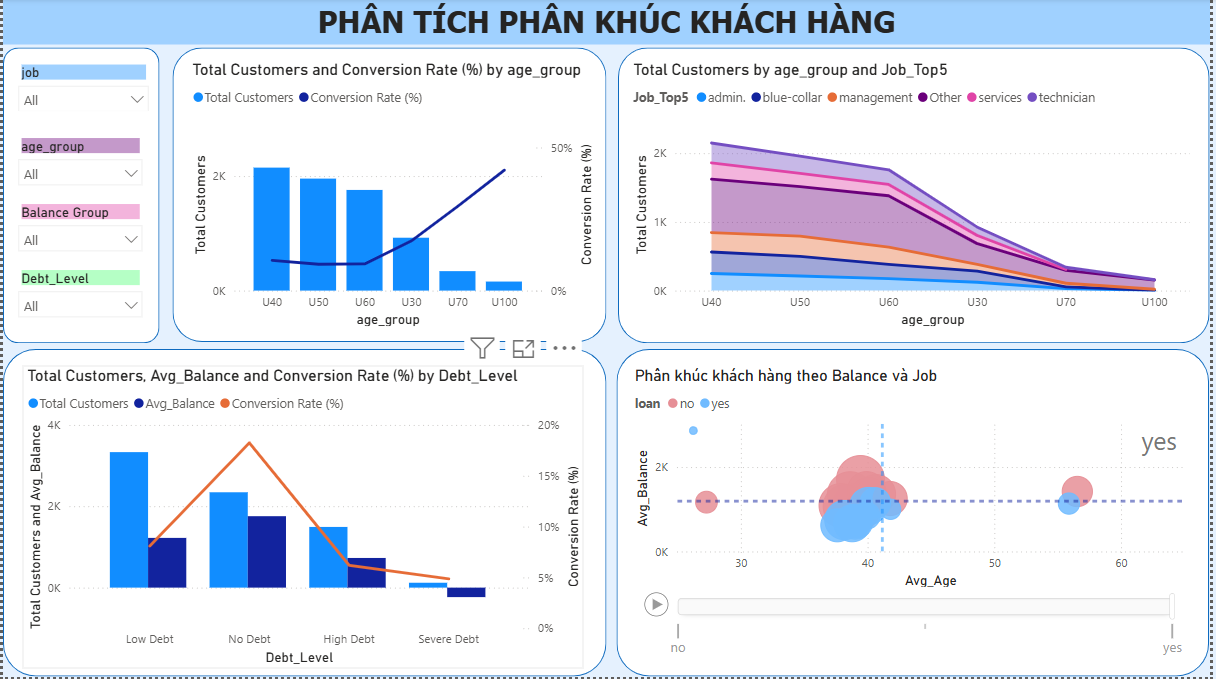

The dashboard page shown, as its layout file describes it:
{"tool":"powerbi","page":{"name":"Customer Analysis","canvas":[1280,720],"ordinal":1},"visuals":[{"type":"shape","box":[651.9,51.8,627.3,313.6],"z":0},{"type":"shape","box":[651.3,373,628.3,347.2],"z":1000},{"type":"shape","box":[0,51.8,165.9,313.6],"z":1500},{"type":"shape","box":[0,373,639.8,347.2],"z":2000},{"type":"textbox","box":[0,0,1280.5,49.3],"z":3000},{"type":"shape","box":[180.2,51.8,460.1,312.3],"z":4000},{"type":"lineStackedColumnComboChart","fields":{"Category":["Fact_Marketing_Campaign.age_group"],"Y":["Fact_Marketing_Campaign.Total Customers"],"Y2":["Fact_Marketing_Campaign.Conversion Rate (%)"]},"box":[195.7,64.8,434.2,287.7],"z":5000},{"type":"scatterChart","title":"Phân khúc khách hàng theo Balance và Job","fields":{"X":["Fact_Marketing_Campaign.Avg_Age"],"Y":["Fact_Marketing_Campaign.Avg_Balance"],"Category":["Dim_Customer.job"],"Size":["Fact_Marketing_Campaign.Total Customers"],"Series":["Dim_Customer.loan"],"Play":["Dim_Customer.housing"]},"box":[664.2,390.2,599.7,319.9],"z":6000},{"type":"stackedAreaChart","fields":{"Y":["Fact_Marketing_Campaign.Total Customers"],"Category":["Fact_Marketing_Campaign.age_group"],"Series":["Fact_Marketing_Campaign.Job_Top5"]},"box":[663.6,64.8,600.1,287.7],"z":7000},{"type":"lineClusteredColumnComboChart","fields":{"Category":["Fact_Marketing_Campaign.Debt_Level"],"Y":["Fact_Marketing_Campaign.Total Customers","Fact_Marketing_Campaign.Avg_Balance"],"Y2":["Fact_Marketing_Campaign.Conversion Rate (%)"]},"box":[20.1,390.2,595.3,321.3],"z":8000},{"type":"slicer","fields":{"Values":["Fact_Marketing_Campaign.age_group"]},"box":[6.5,143.9,151.6,63.5],"z":9000},{"type":"slicer","fields":{"Values":["Dim_Customer.job"]},"box":[6.5,64.8,158.1,54.4],"z":10000},{"type":"slicer","fields":{"Values":["Fact_Marketing_Campaign.Balance Group"]},"box":[6.5,212.6,151.6,71.3],"z":11000},{"type":"slicer","fields":{"Values":["Fact_Marketing_Campaign.Debt_Level"]},"box":[6.5,283.8,151.6,68.7],"z":12000}]}

Visuals, with their boxes in screenshot pixels (x1, y1, x2, y2), scaled from the page's 1280x720 canvas onto the 1216x679 screenshot:
shape: (619,49,1215,345)
shape: (619,352,1215,678)
shape: (0,49,158,345)
shape: (0,352,608,678)
textbox: (0,0,1215,46)
shape: (171,49,608,343)
lineStackedColumnComboChart - Fact_Marketing_Campaign.age_group x Fact_Marketing_Campaign.Total Customers: (186,61,598,332)
"Phân khúc khách hàng theo Balance và Job" scatterChart: (631,368,1201,670)
stackedAreaChart - Fact_Marketing_Campaign.Total Customers x Fact_Marketing_Campaign.age_group: (630,61,1201,332)
lineClusteredColumnComboChart - Fact_Marketing_Campaign.Debt_Level x Fact_Marketing_Campaign.Total Customers: (19,368,585,671)
slicer - Fact_Marketing_Campaign.age_group: (6,136,150,196)
slicer - Dim_Customer.job: (6,61,156,112)
slicer - Fact_Marketing_Campaign.Balance Group: (6,200,150,268)
slicer - Fact_Marketing_Campaign.Debt_Level: (6,268,150,332)
